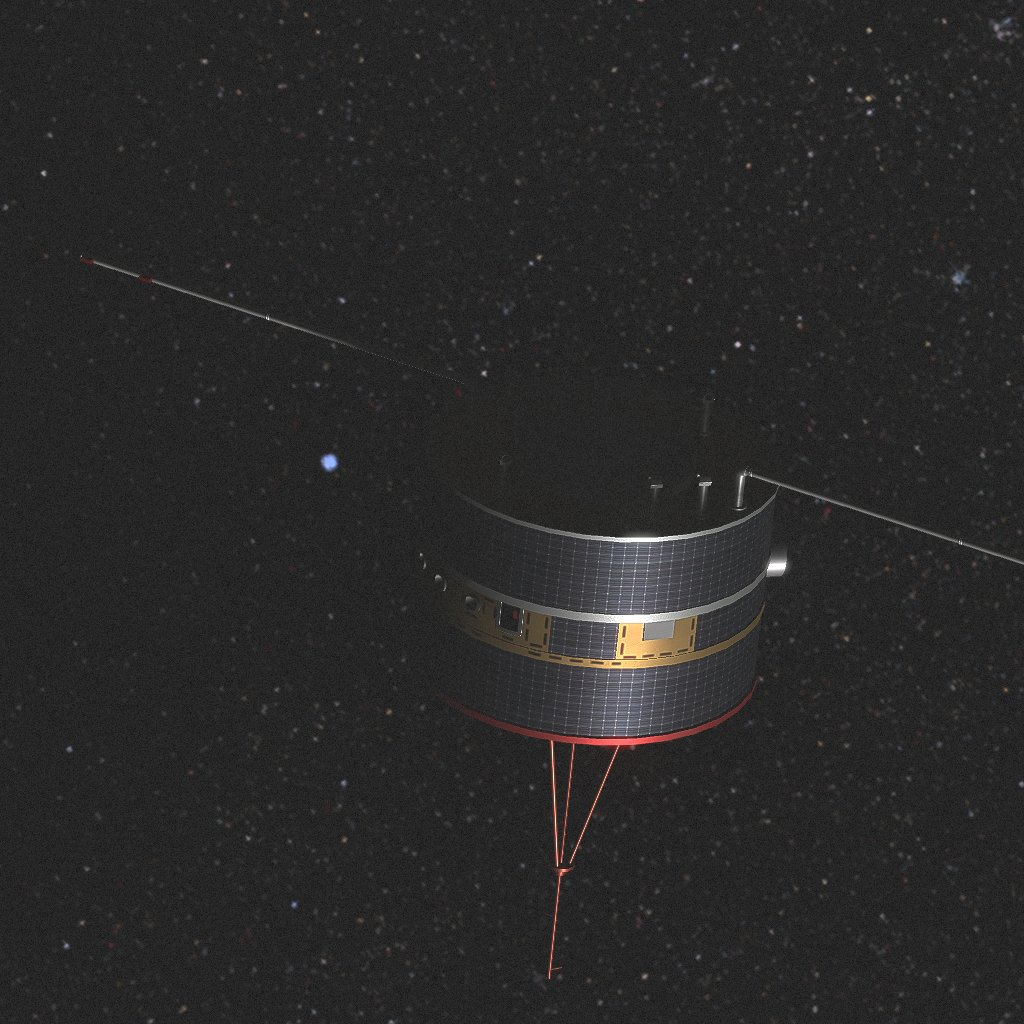double_star: (80, 251, 1024, 979)
